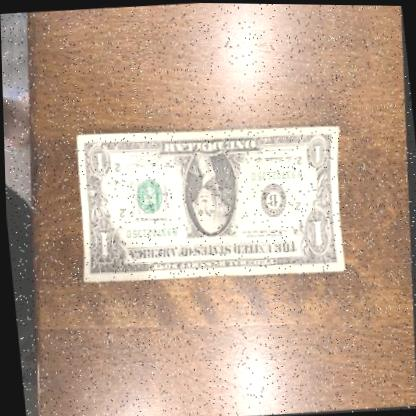one-front: (69, 113, 354, 293)
